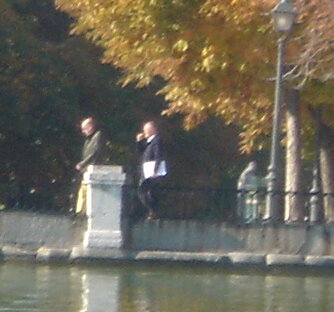person: (130, 120, 174, 219)
